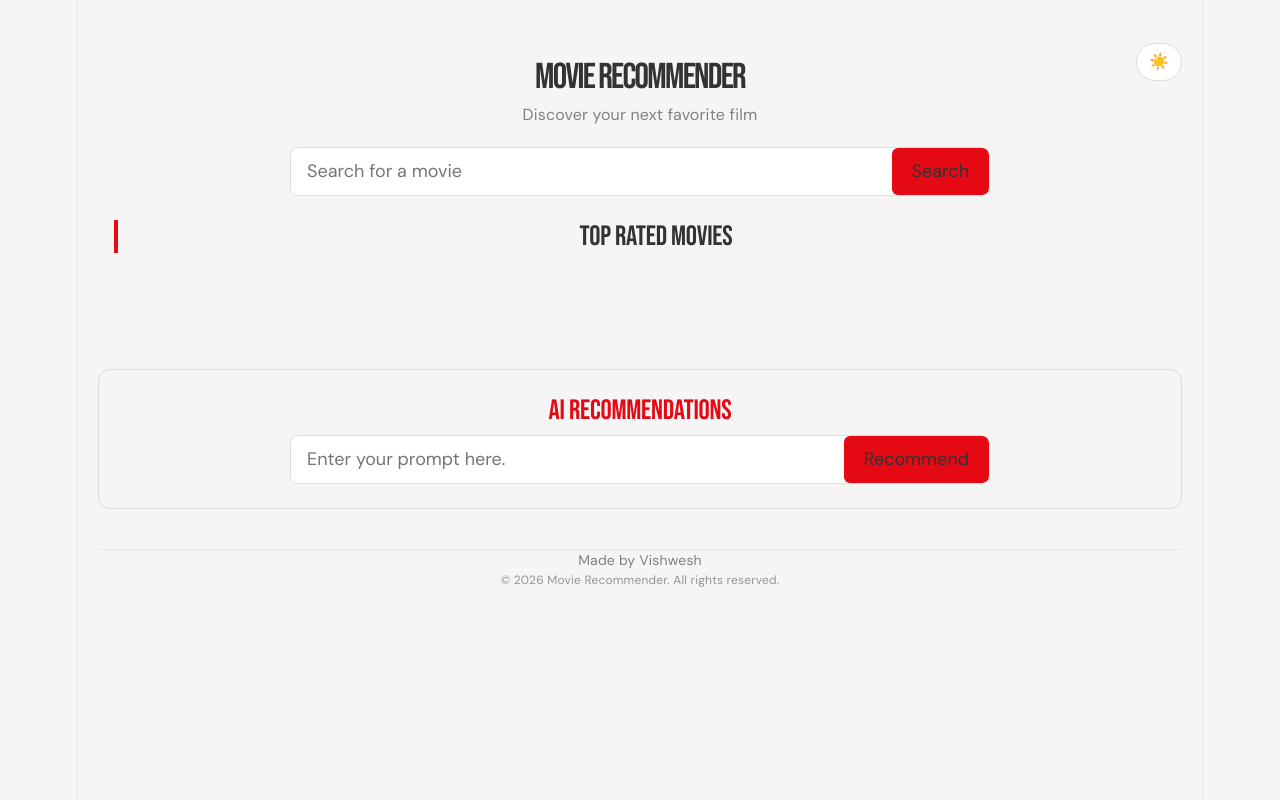
Scenario: App Component › shows search results after search
The image size is (1280, 800).
In the field with placeholder "Search for a movie": (591, 172) [291,148,892,195], type "Inception"
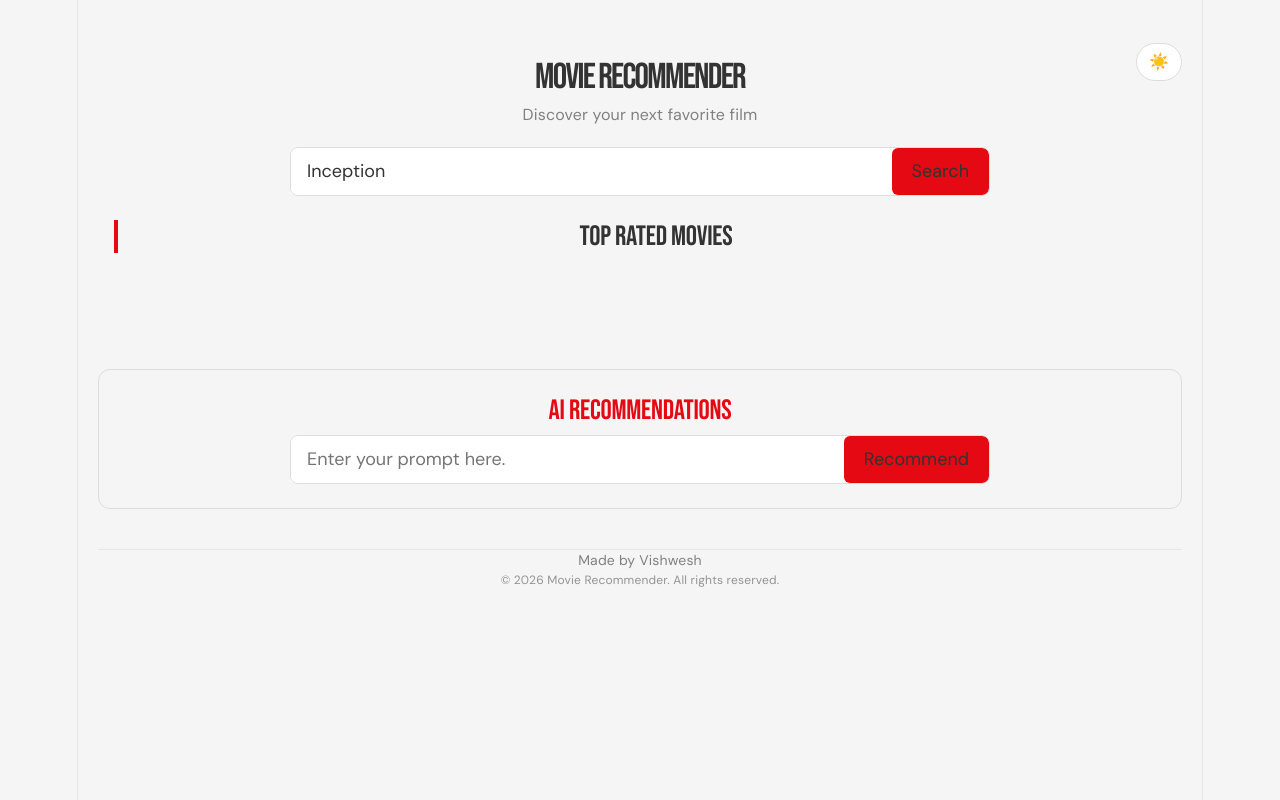
Click the button "Search": (940, 172) [892,148,989,195]
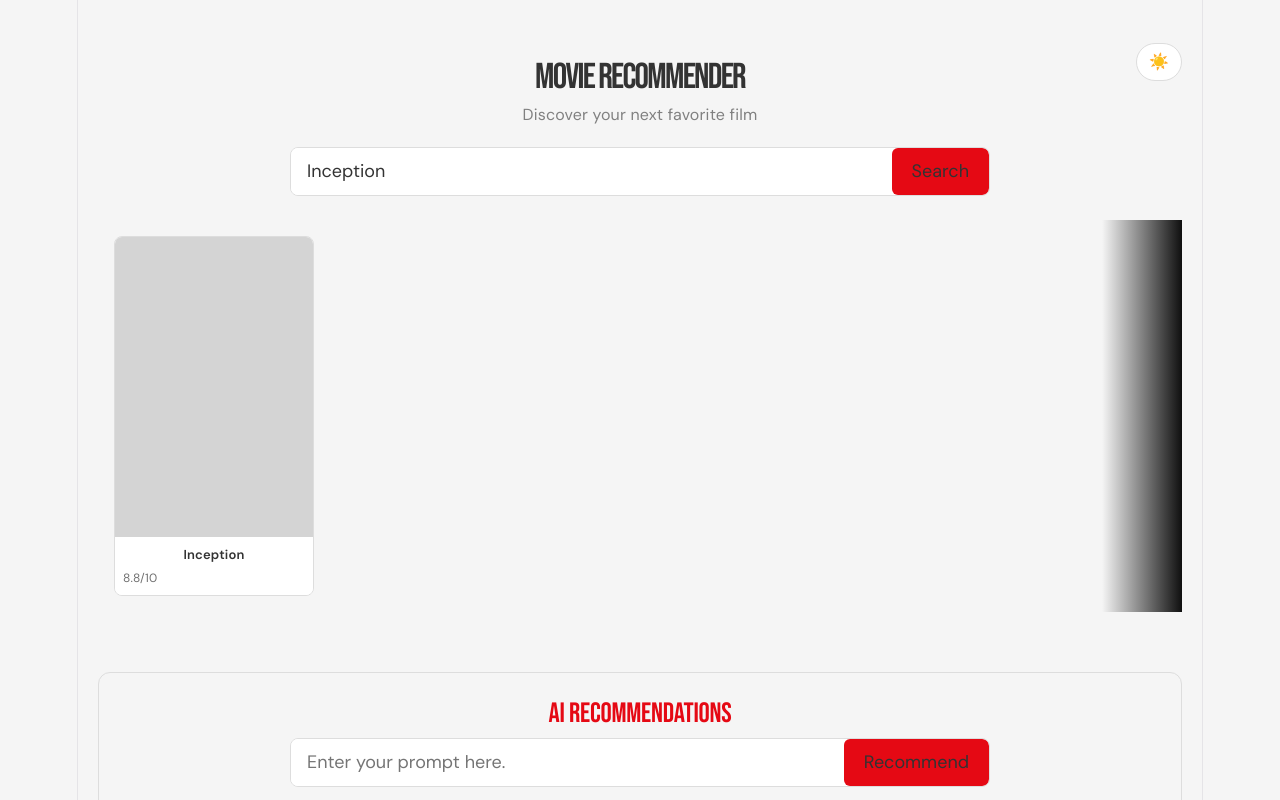
Result: the text "Inception" is shown at [184,546,245,563]
